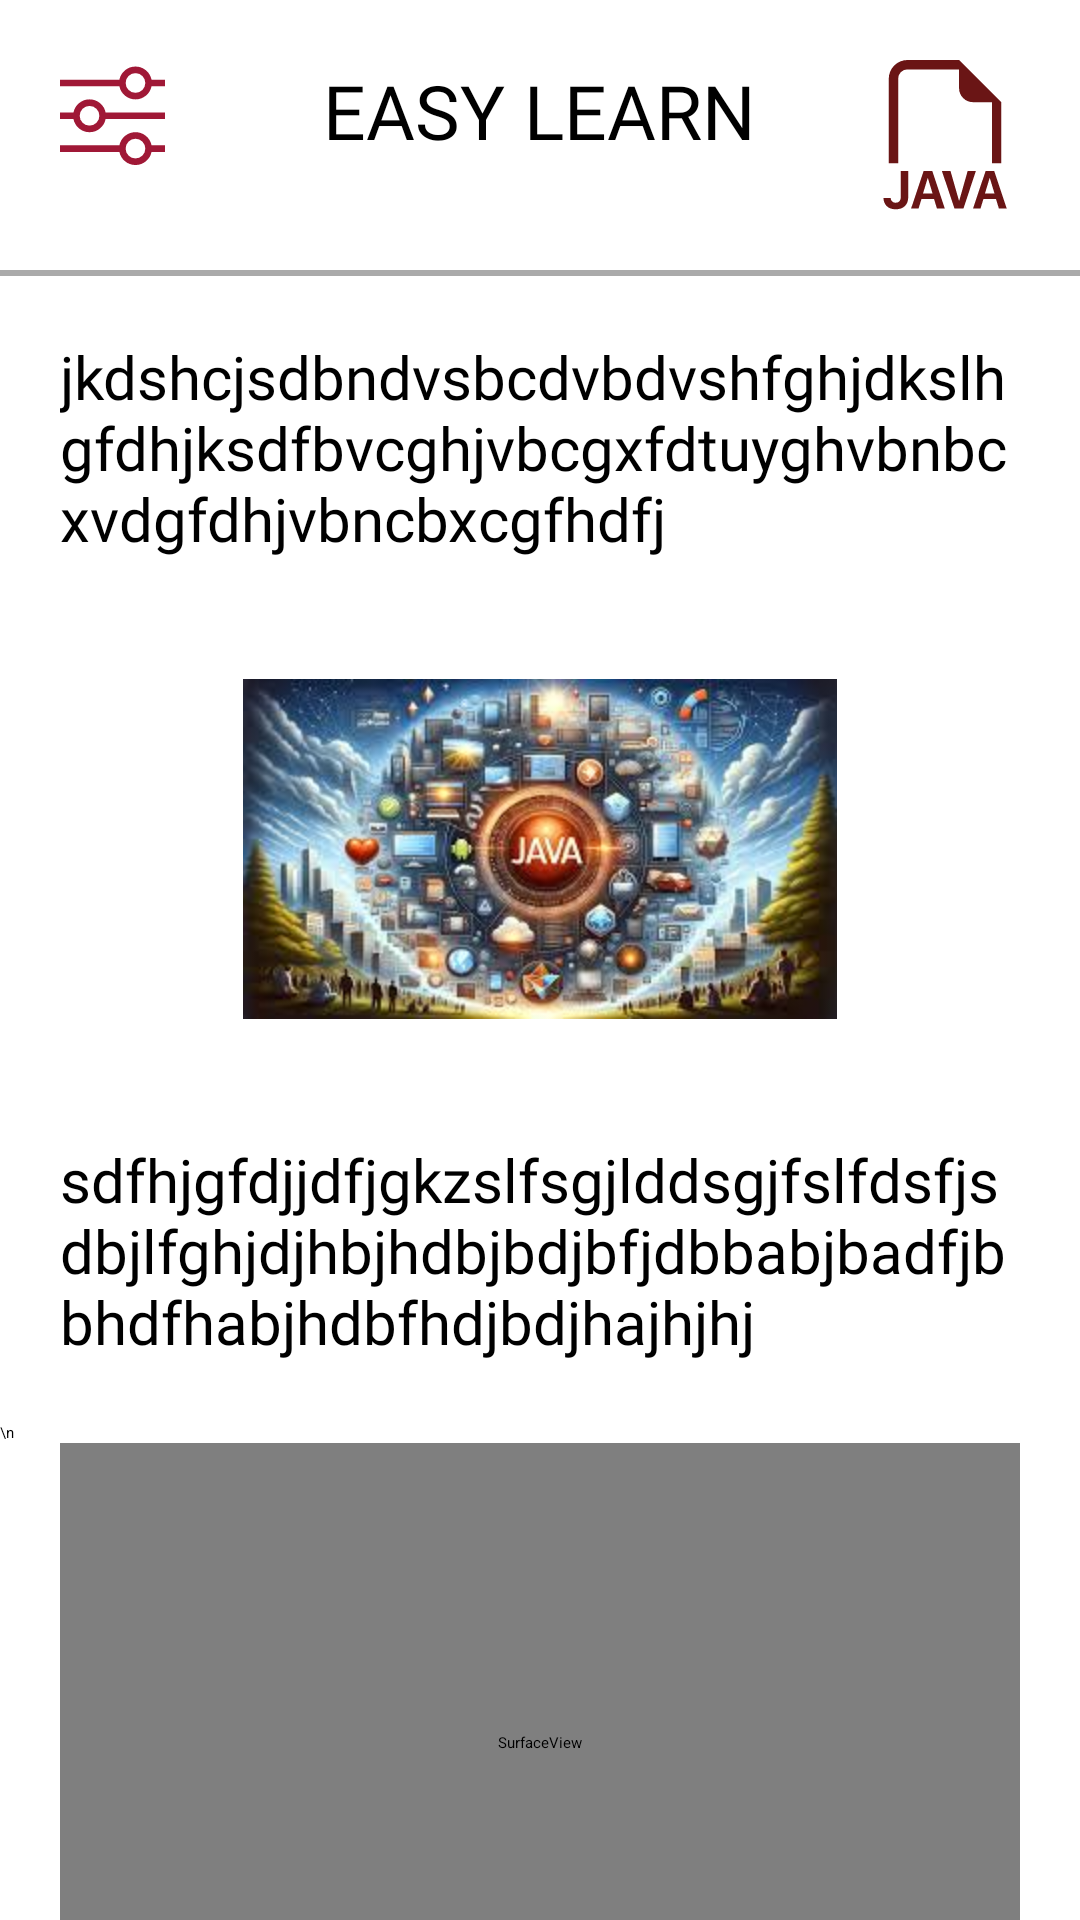

Point at icon controls on the screen. Image size 1080w x 1920h, points as point (x, y).
sliders: point (112, 115)
